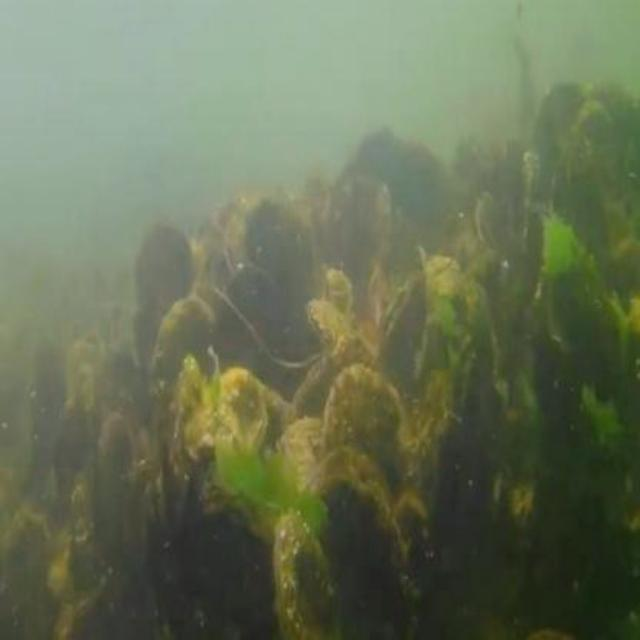Oyster-Closed: (296, 453, 403, 640), (274, 510, 346, 640), (182, 370, 267, 476), (292, 333, 379, 422), (323, 363, 400, 461), (166, 346, 207, 495), (135, 222, 199, 312), (151, 303, 215, 393), (276, 420, 327, 487), (379, 271, 417, 342), (310, 298, 354, 350)
